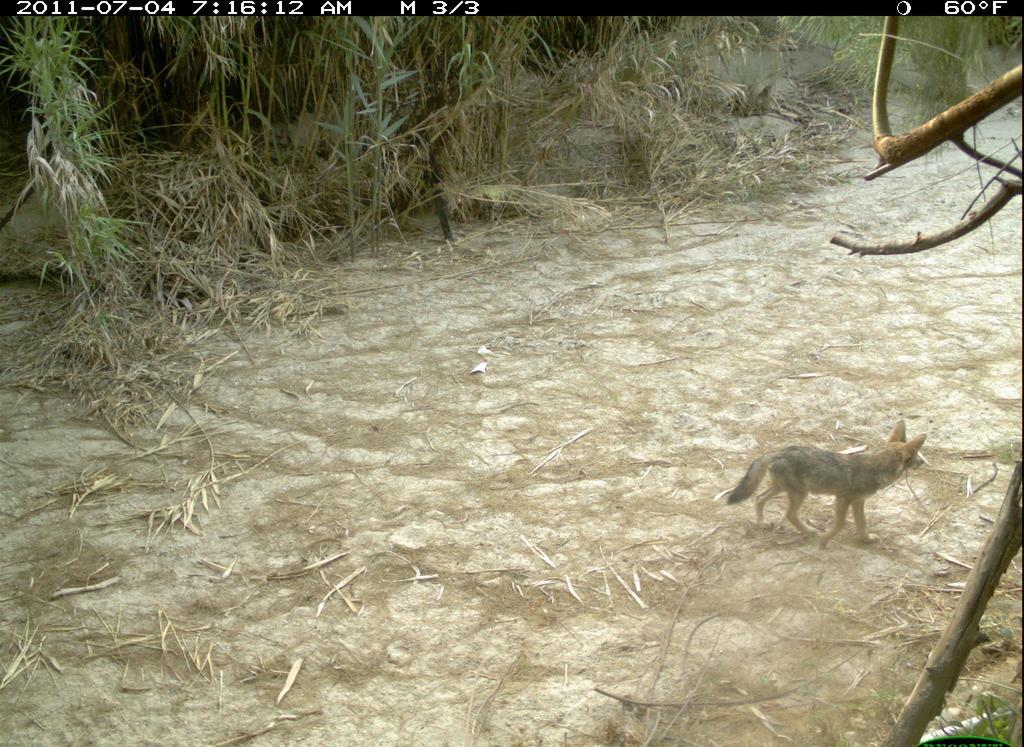coyote: (722, 417, 937, 552)
